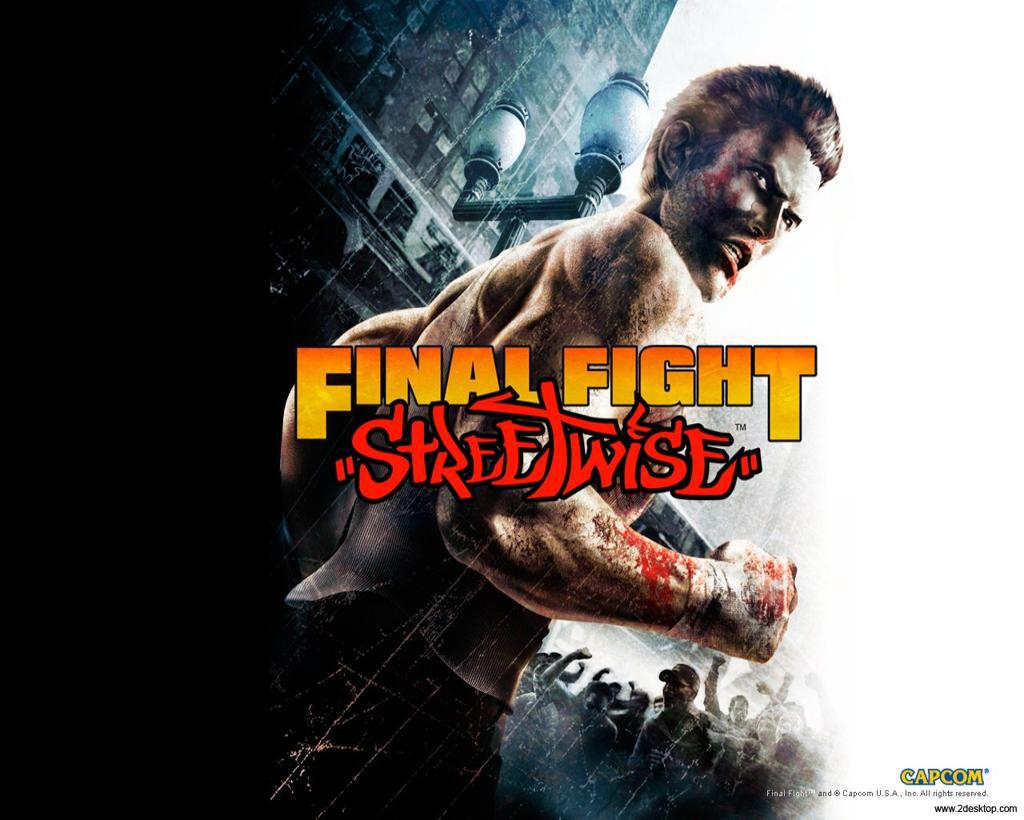face: (679, 103, 819, 297)
